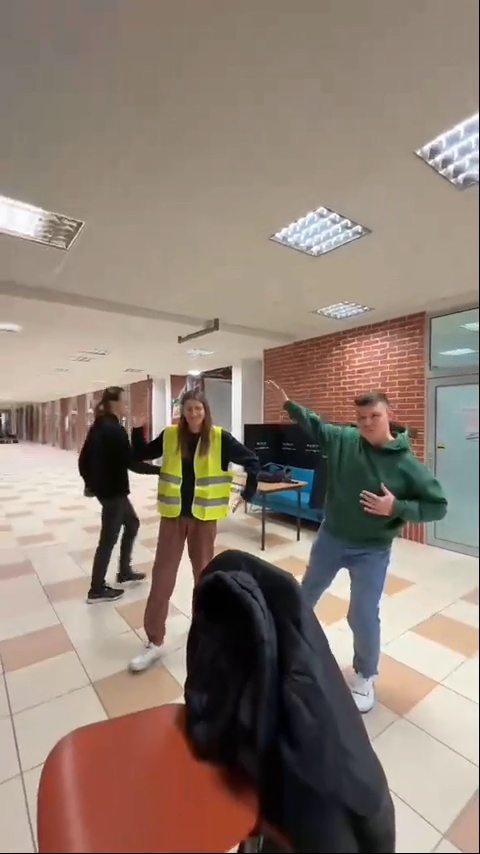no vest: (271, 373, 439, 694), (70, 382, 153, 593)
vest: (144, 392, 260, 674)
